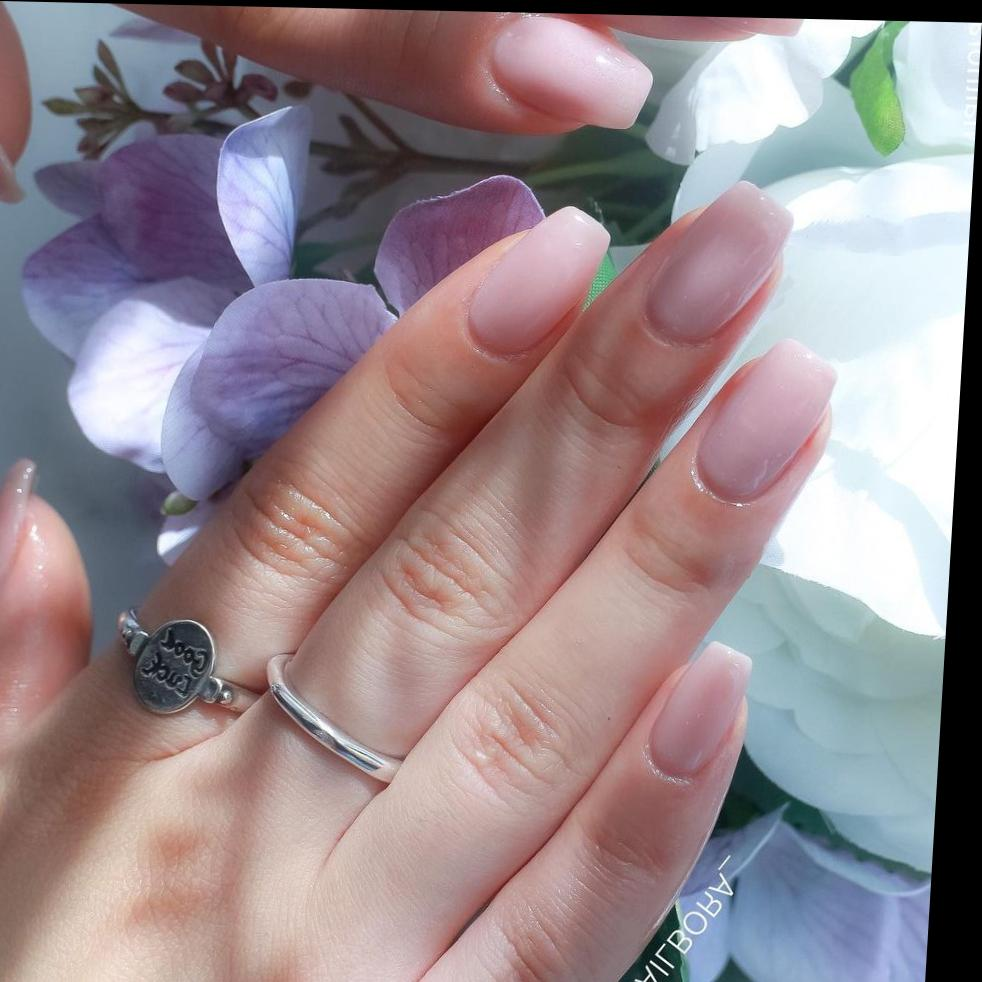nail: (639, 178, 798, 350), (690, 336, 842, 509), (462, 203, 616, 363), (485, 12, 660, 132), (259, 652, 413, 783), (644, 639, 755, 784), (0, 458, 40, 621), (0, 76, 34, 205), (671, 15, 813, 38)
